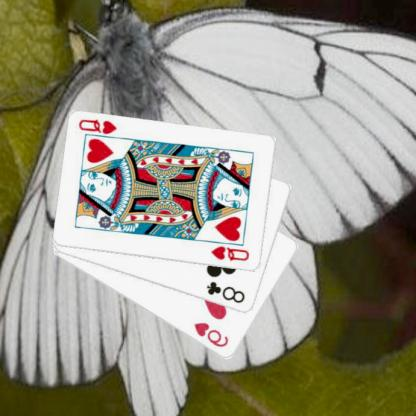6H: (193, 320, 232, 349)
8C: (206, 279, 248, 305)
QH: (78, 116, 124, 141), (210, 243, 252, 263)
